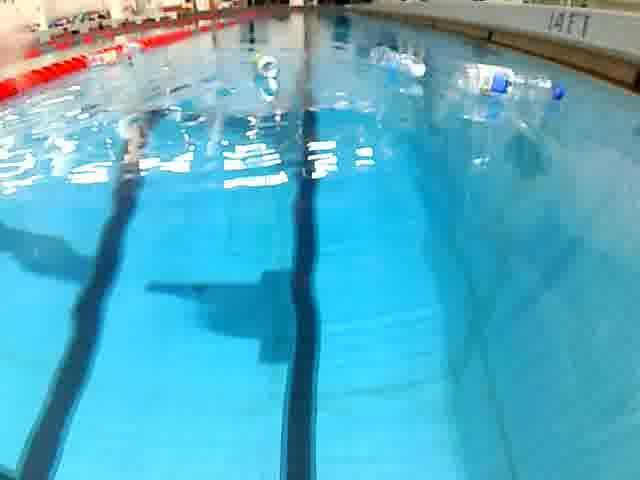Bottle: (450, 58, 572, 106), (362, 43, 432, 83)
Can: (246, 48, 282, 82)
